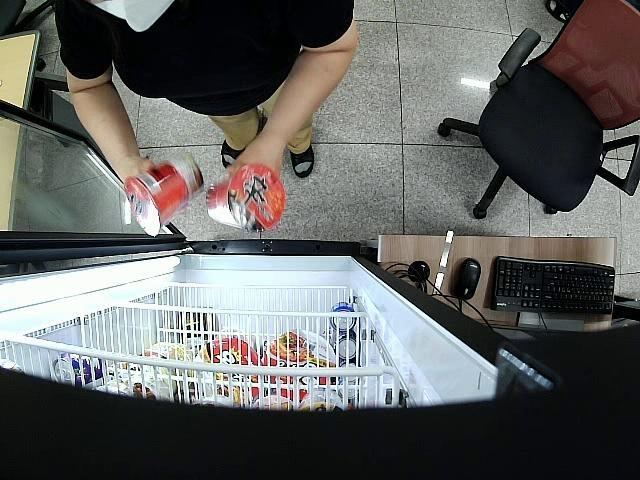02_shinRamen_S: (125, 154, 204, 237), (208, 163, 286, 234)
